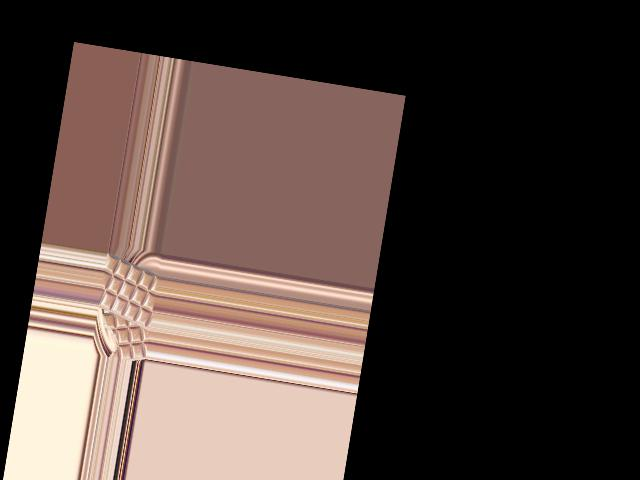chocolate: (96, 251, 162, 331)
